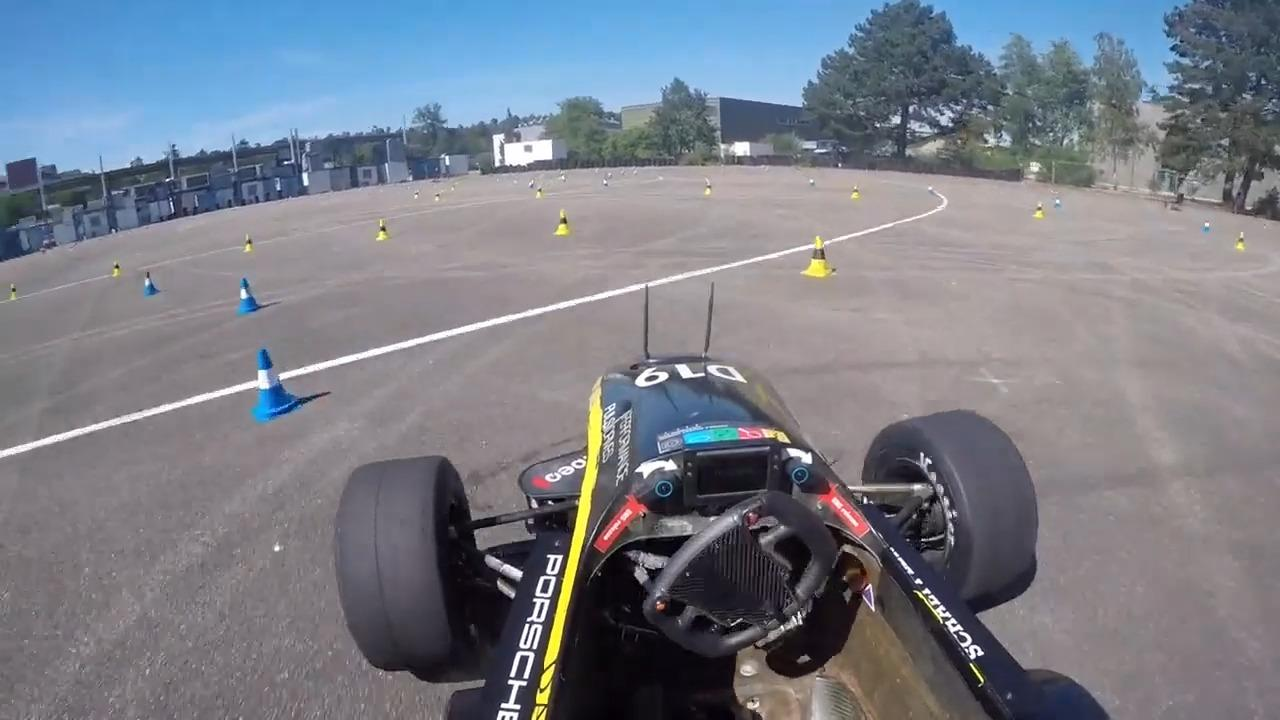blue_cone: (249, 347, 304, 424), (237, 276, 262, 315), (144, 271, 159, 296)
yellow_cone: (800, 235, 838, 278), (552, 208, 574, 236), (376, 218, 391, 243)
